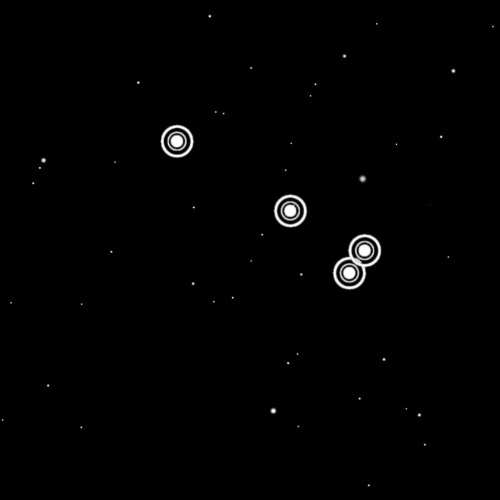sagitta: (153, 118, 388, 298)
